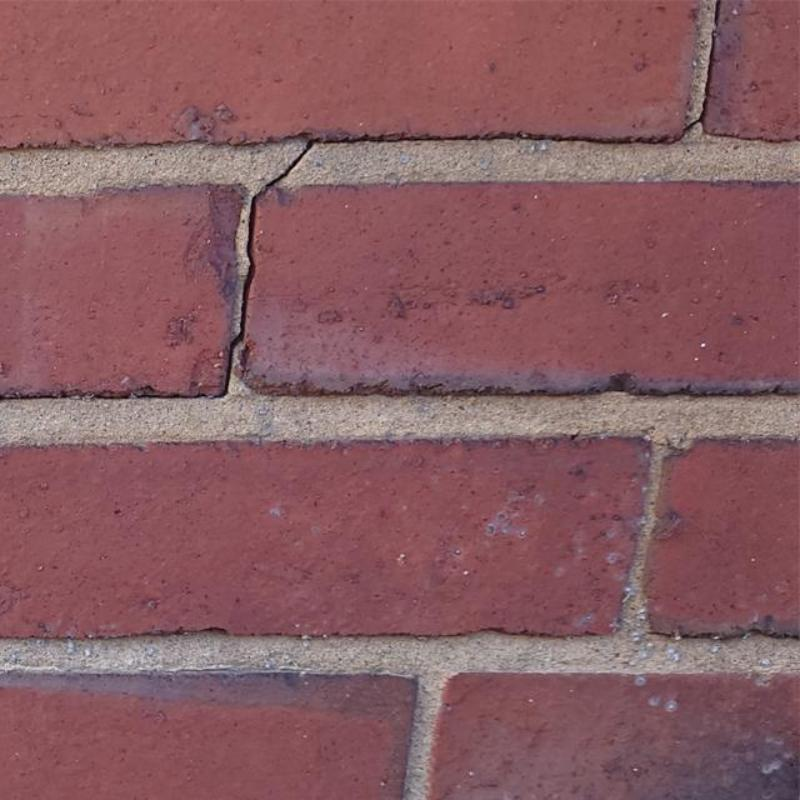crack: (213, 190, 267, 399), (265, 139, 315, 189), (683, 111, 705, 134)
